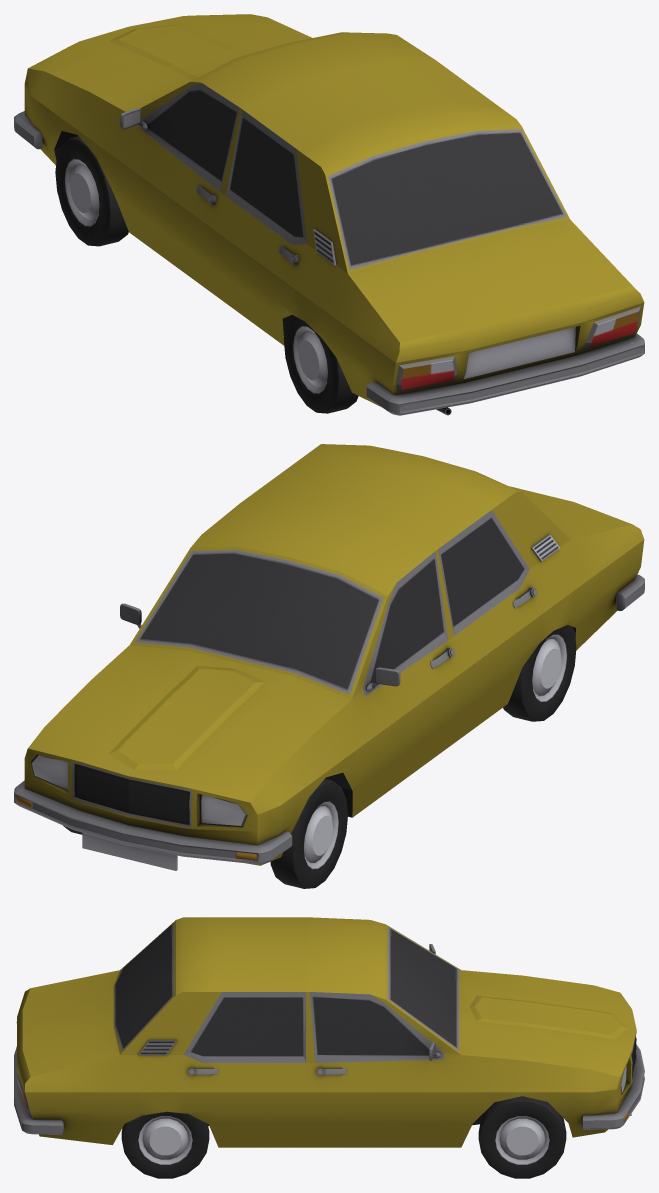
Rendered from car.glb.
3 views of the same model, one above another, from view 1: azimuth 30°, elevation 25°; view 2: azimuth 150°, elevation 25°; view 3: azimuth 270°, elevation 25° (orthographic). The views are drawn at different scales.
Parts seen in each view (by area): view 1: Body_CarTex_1_0, FLWheel_WheelTex_0, RLWheel_WheelTex_0; view 2: Body_CarTex_1_0, FLWheel_WheelTex_0, RLWheel_WheelTex_0; view 3: Body_CarTex_1_0, FRWheel_WheelTex_0, RRWheel_WheelTex_0.
Boxes of the visible parts, x1=… form: Body_CarTex_1_0: x1=14, y1=14, x2=644, y2=415; FLWheel_WheelTex_0: x1=55, y1=136, x2=128, y2=246; RLWheel_WheelTex_0: x1=283, y1=315, x2=358, y2=413; Body_CarTex_1_0: x1=14, y1=444, x2=644, y2=870; FLWheel_WheelTex_0: x1=270, y1=778, x2=347, y2=888; RLWheel_WheelTex_0: x1=503, y1=625, x2=576, y2=721; Body_CarTex_1_0: x1=14, y1=917, x2=644, y2=1147; FRWheel_WheelTex_0: x1=478, y1=1096, x2=566, y2=1178; RRWheel_WheelTex_0: x1=121, y1=1111, x2=209, y2=1178.
Bounding box in the file's own units: 1.73 × 1.45 × 4.33.
2 materials, 2 textured.
